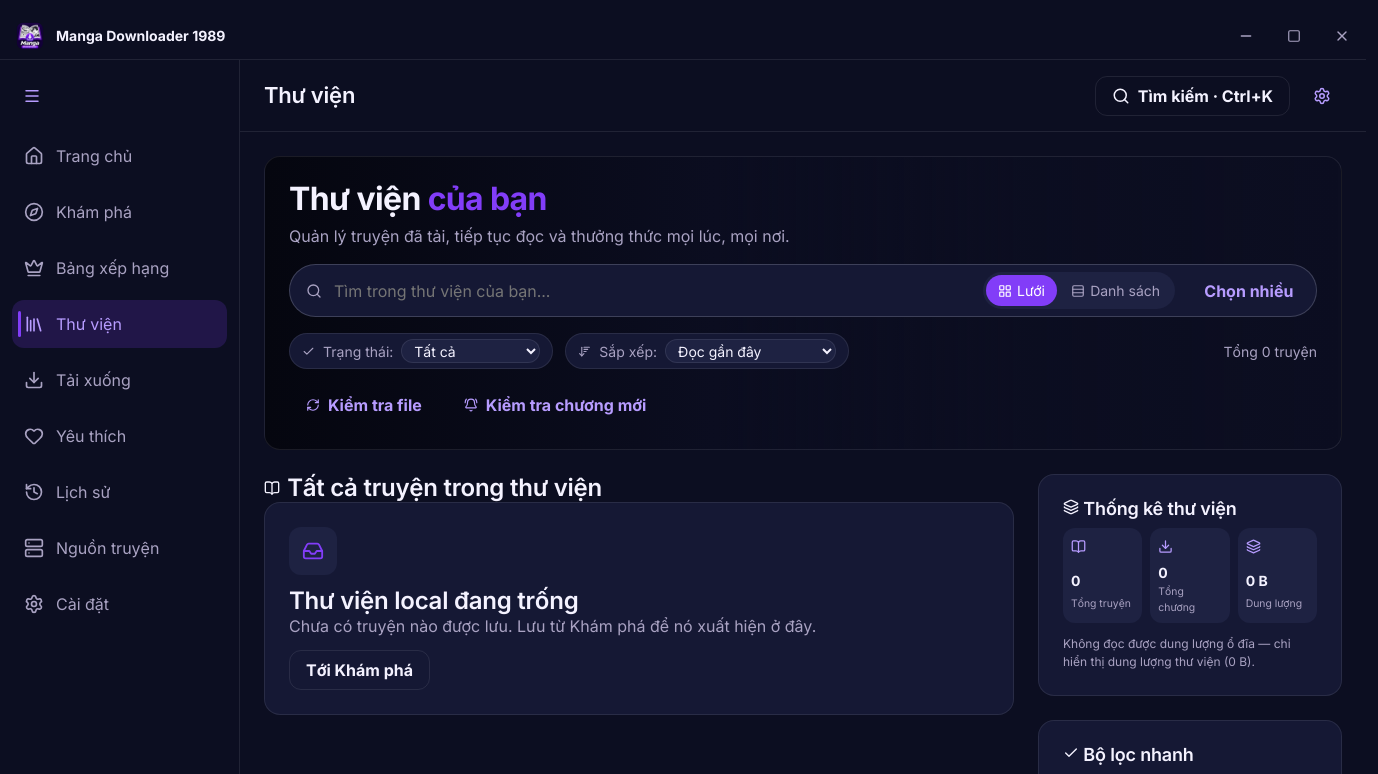
Test: T04-09/T04-10 local library states › retry recovers when DB returns
The image size is (1378, 774).
Expected: the heading "Thư viện local đang trống" is shown, [289,586,578,615]
Click the link "Trang chủ" at (78, 156), box [24,146,132,166]
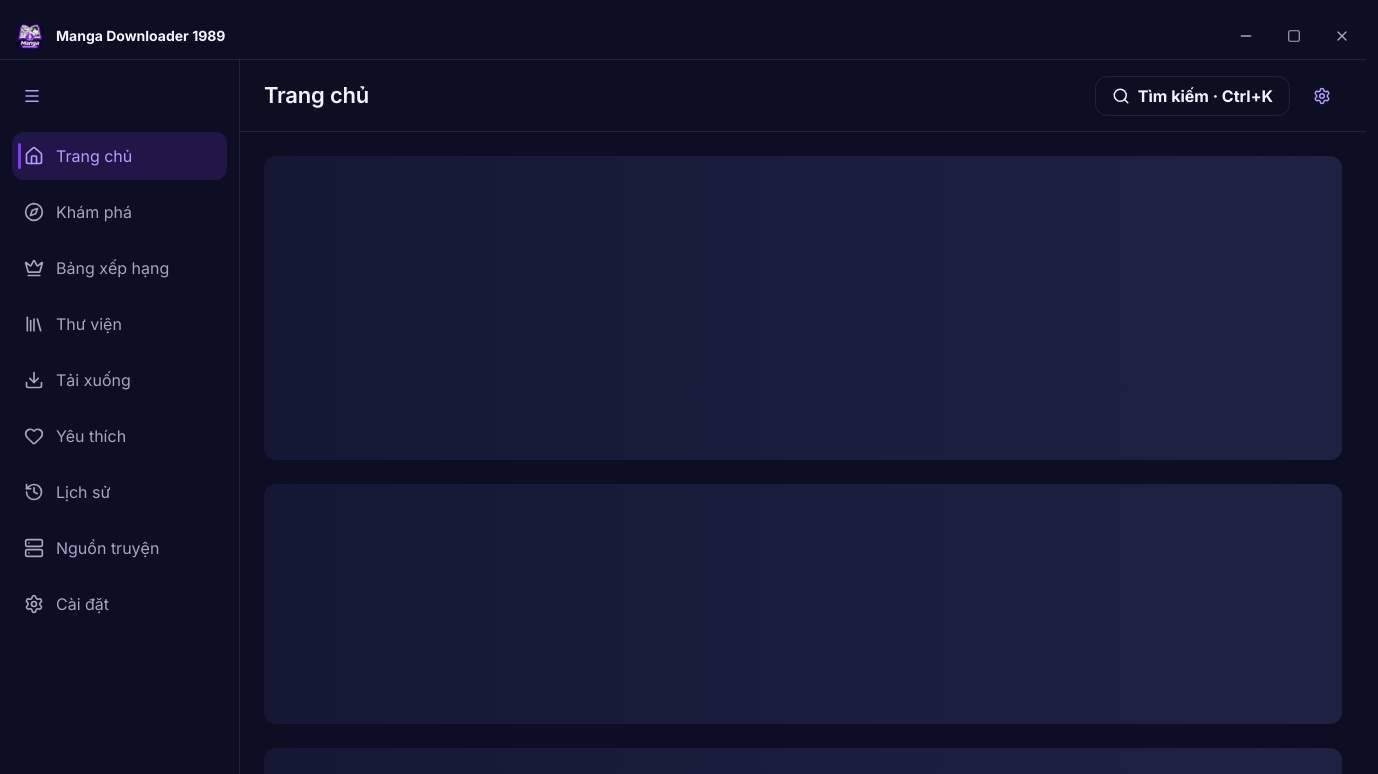
Click the link "Thư viện" at (73, 324), box [24,314,122,334]
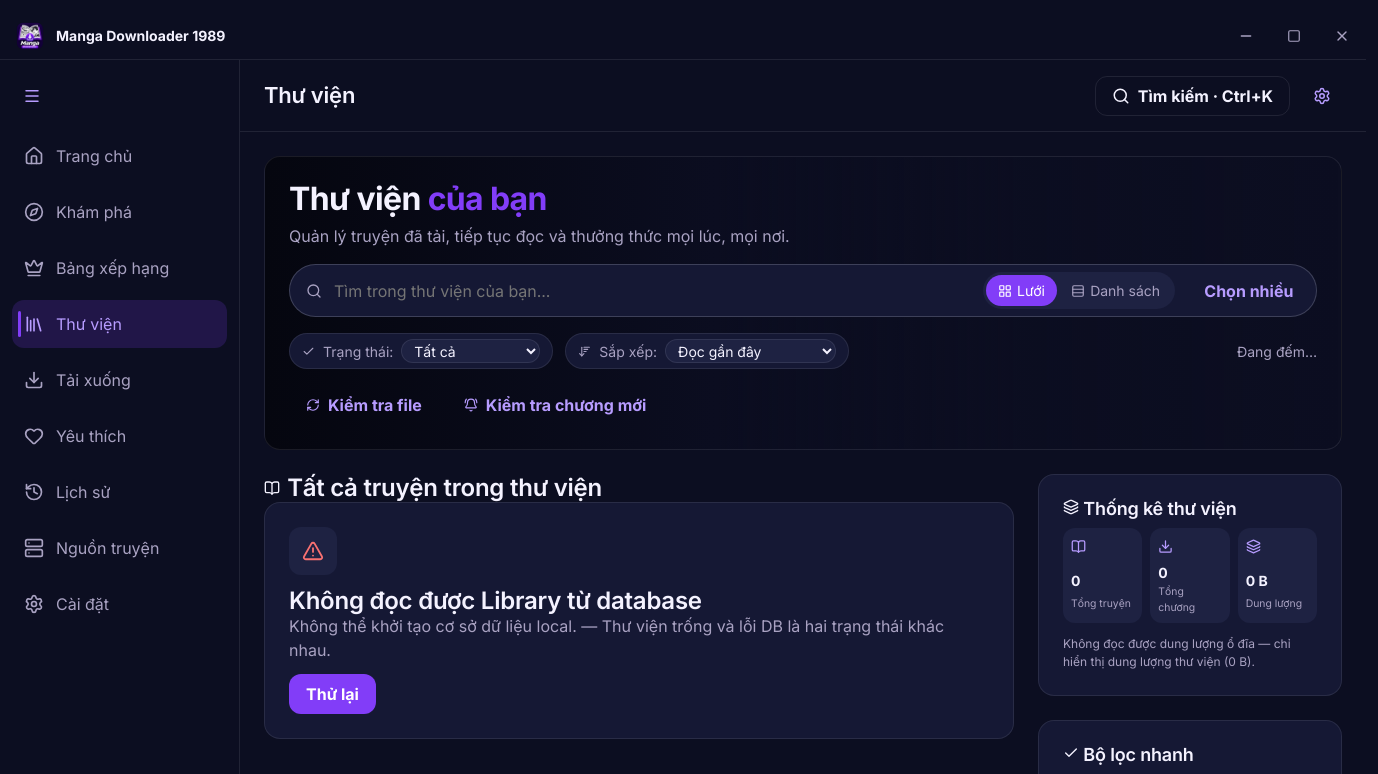
Click the button "Thử lại" at (332, 694), box [289,674,376,714]
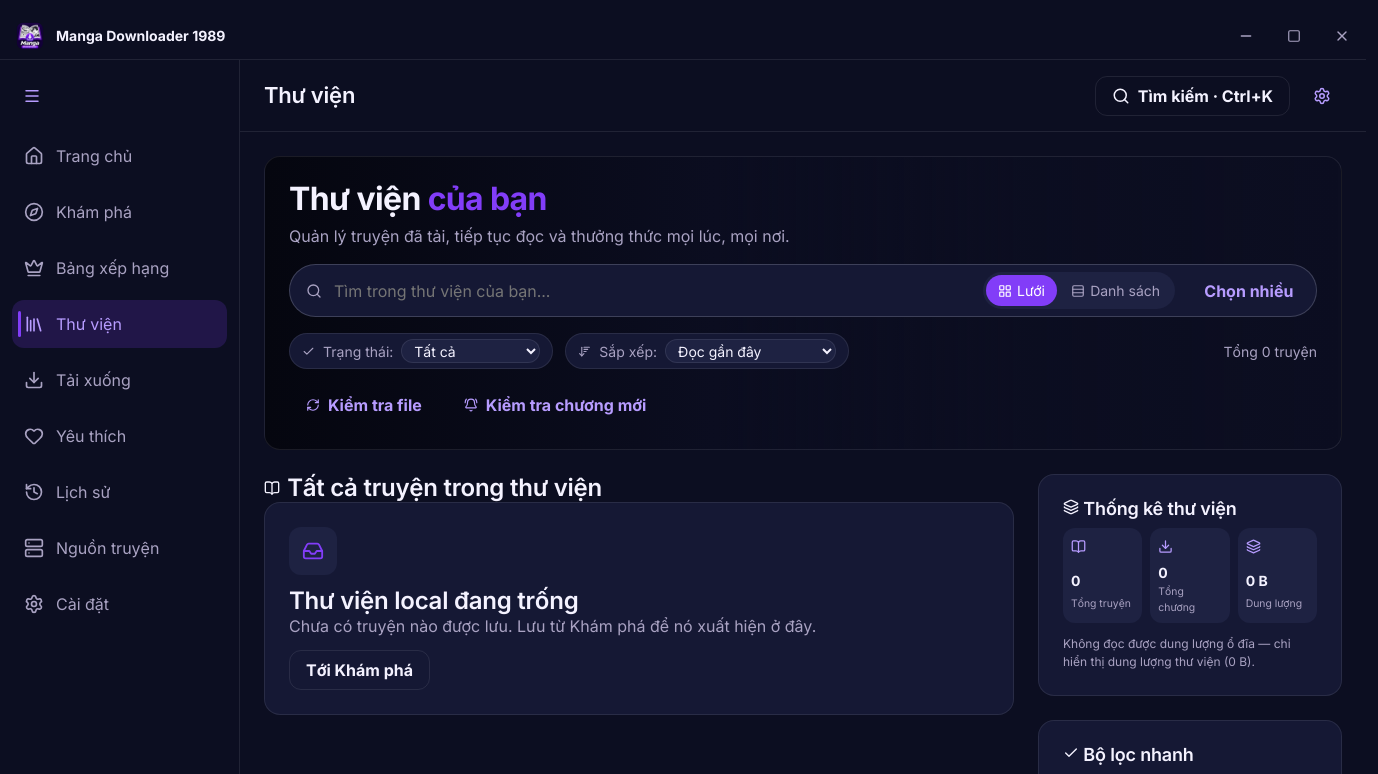
Expected: the heading "Thư viện local đang trống" is shown, [289,586,578,615]
